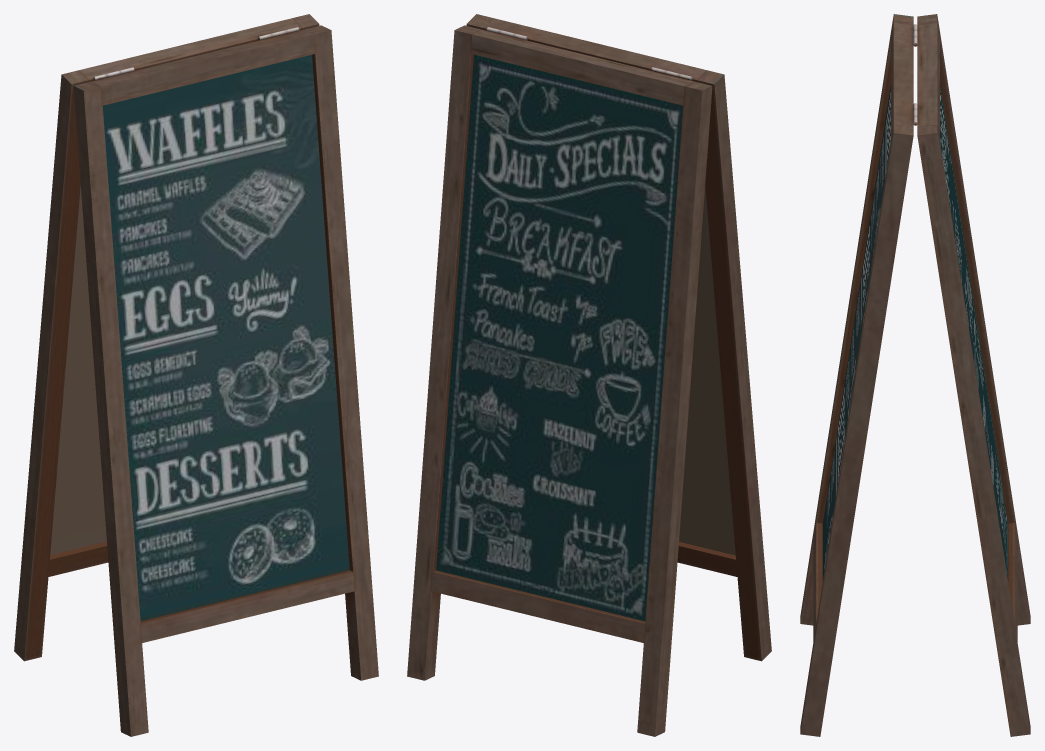
Rendered from chalkboard-sign.glb.
3 views of the same model, side by side, from view 1: azimuth 30°, elevation 25°; view 2: azimuth 150°, elevation 25°; view 3: azimuth 270°, elevation 25° (orthographic).
Parts seen in each view (by area): view 1: defaultMaterial; view 2: defaultMaterial; view 3: defaultMaterial.
Part boxes in pixels (x1,y1,x2,y2): defaultMaterial: (14,14,378,736); defaultMaterial: (407,14,771,736); defaultMaterial: (800,14,1030,736).
Bounding box in the file's own units: 42 × 99.5 × 34.33.
1 material, 1 textured.
